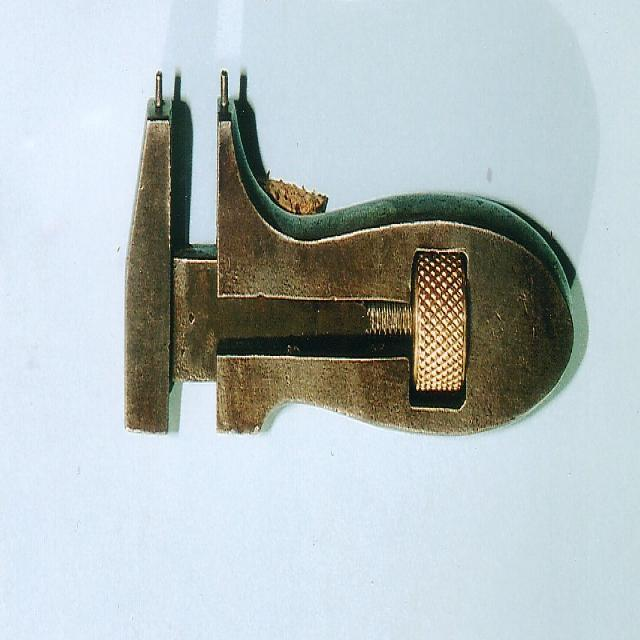wrench: (108, 50, 592, 459)
